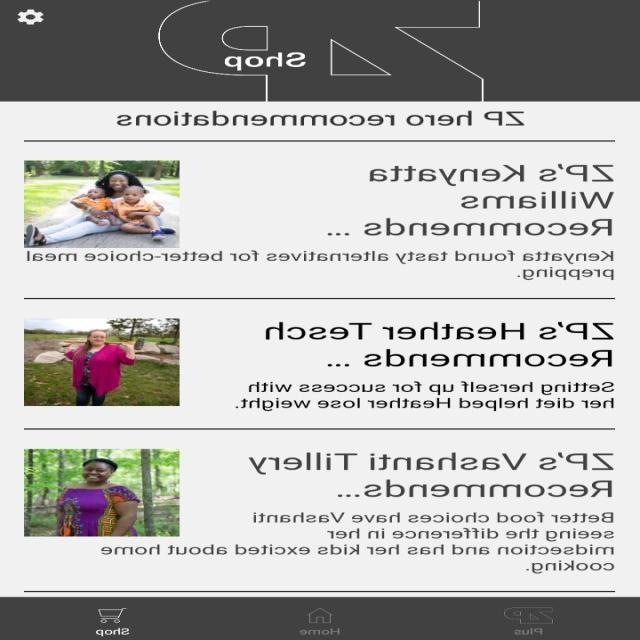Icon: (99, 607, 129, 622), (306, 607, 334, 623), (18, 10, 44, 24)
Image: (160, 0, 484, 101), (24, 318, 180, 406), (24, 160, 180, 248), (25, 449, 182, 536), (504, 607, 554, 623)
Text: (327, 163, 615, 236), (28, 250, 614, 280), (248, 452, 614, 497), (101, 543, 615, 574), (266, 321, 614, 366), (235, 381, 616, 411), (253, 512, 614, 542), (117, 110, 526, 126), (225, 52, 307, 71), (300, 627, 340, 635), (97, 627, 131, 636), (514, 628, 544, 636)
